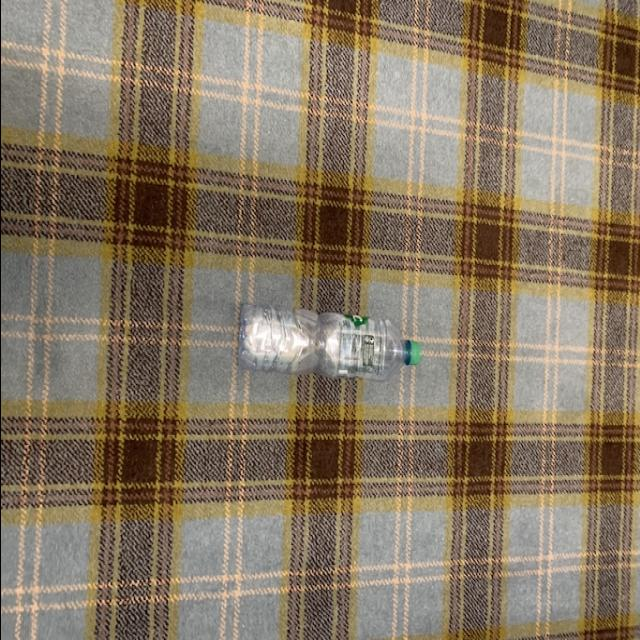litter: (239, 304, 420, 382)
